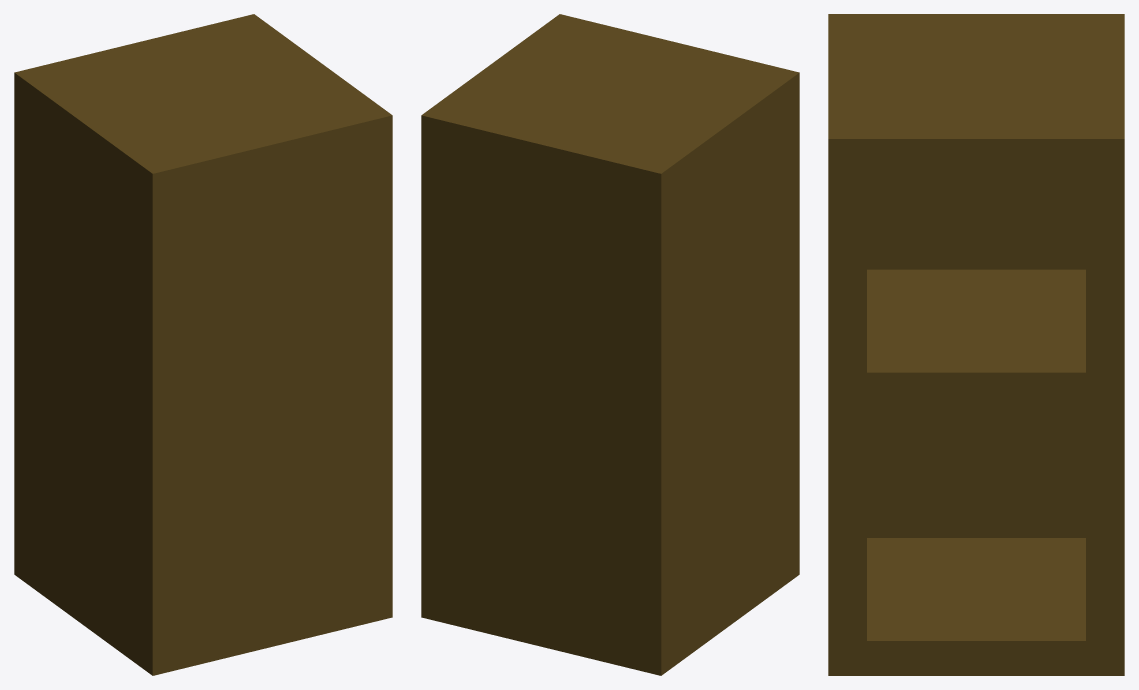
Rendered from TallBlock.fbx.
3 renders of one model, left to right at view 1: azimuth 30°, elevation 25°; view 2: azimuth 150°, elevation 25°; view 3: azimuth 270°, elevation 25°, orthographic. The views are drawn at different scales.
Visible parts, largest first — view 1: Cube.003; view 2: Cube.003; view 3: Cube.003.
Boxes of the visible parts, x1=… form: Cube.003: x1=14, y1=14, x2=392, y2=675; Cube.003: x1=421, y1=14, x2=799, y2=675; Cube.003: x1=828, y1=14, x2=1124, y2=675.
Bounding box in the file's own units: 200 × 400 × 200.
